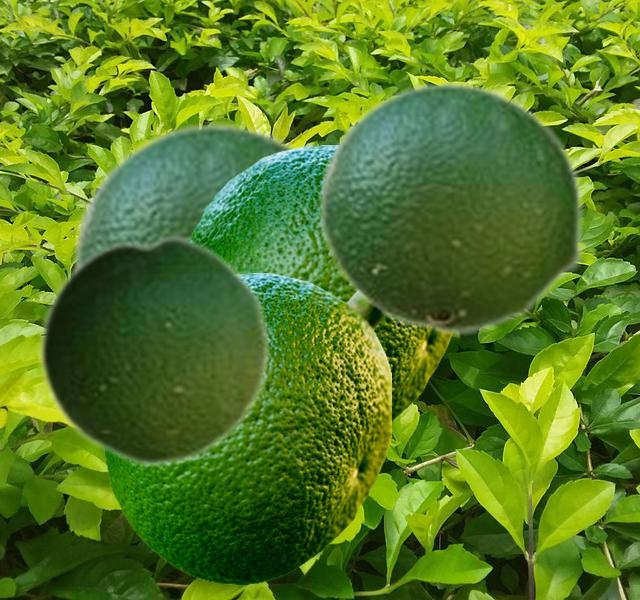dalandan: (103, 273, 390, 583), (188, 145, 454, 425), (317, 80, 584, 336), (37, 231, 271, 469), (72, 121, 302, 264)
